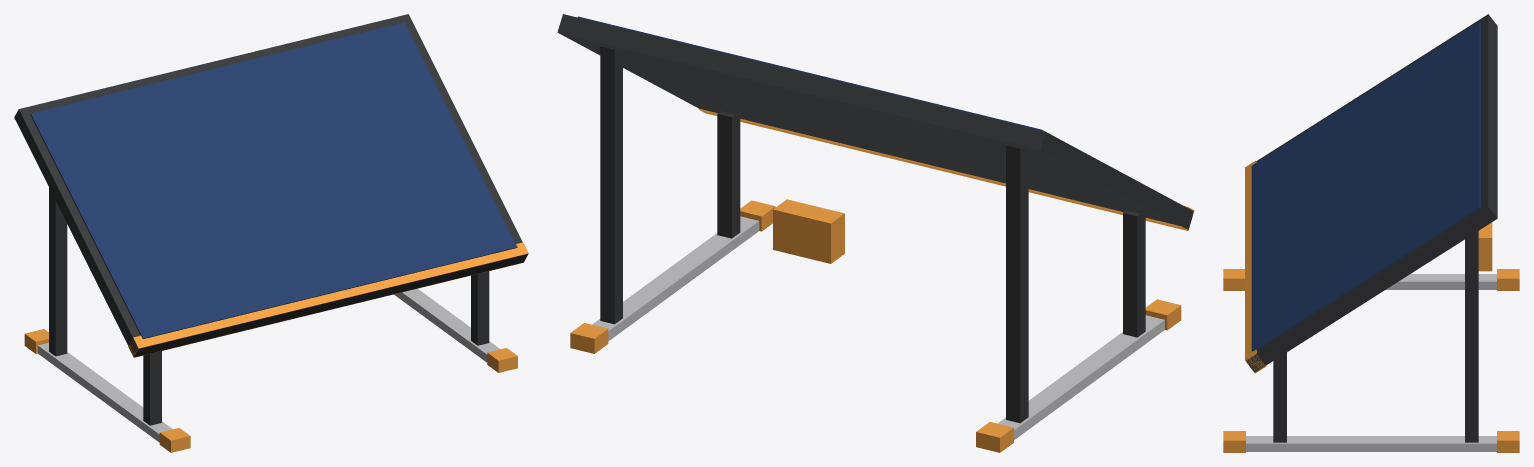
The model's file is ROOT_AER_SolarPanel.fbx.
3 renders of one model, left to right at view 1: azimuth 30°, elevation 25°; view 2: azimuth 150°, elevation 25°; view 3: azimuth 270°, elevation 25°, orthographic. The views are drawn at different scales.
Visible parts, largest first — view 1: ROOT_AER_SolarPanel_LOD0; view 2: ROOT_AER_SolarPanel_LOD0; view 3: ROOT_AER_SolarPanel_LOD0.
Part boxes in pixels (x1,y1,x2,y2): ROOT_AER_SolarPanel_LOD0: (14,14,528,452); ROOT_AER_SolarPanel_LOD0: (557,14,1194,452); ROOT_AER_SolarPanel_LOD0: (1223,14,1519,452).
Size of what is drawn, in the model's own units: 100 by 62.07 by 65.
